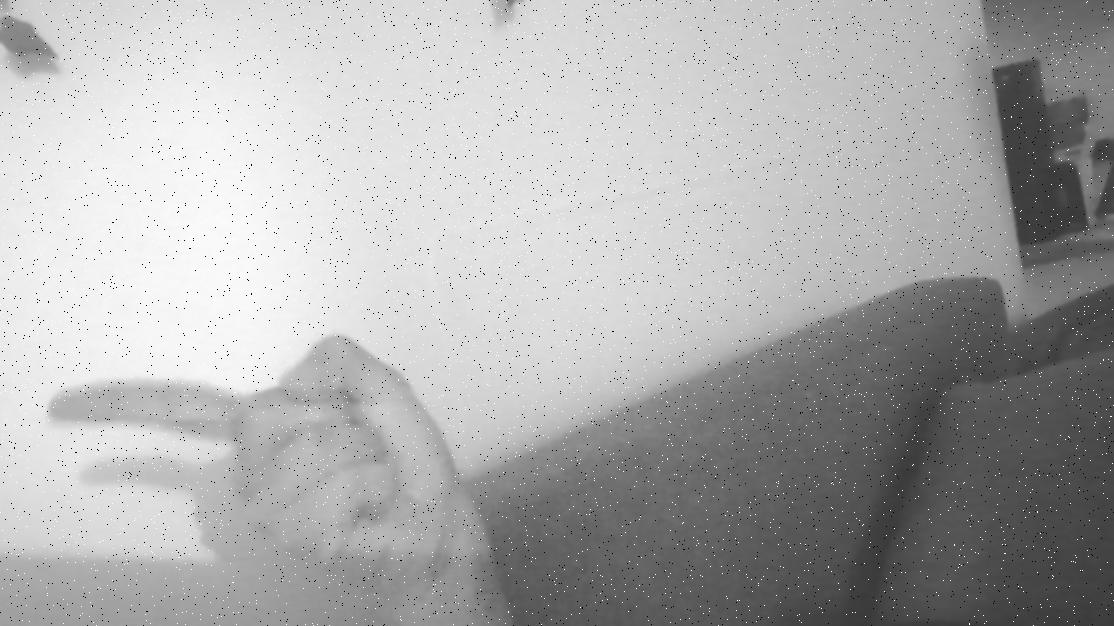left: (35, 322, 499, 613)
